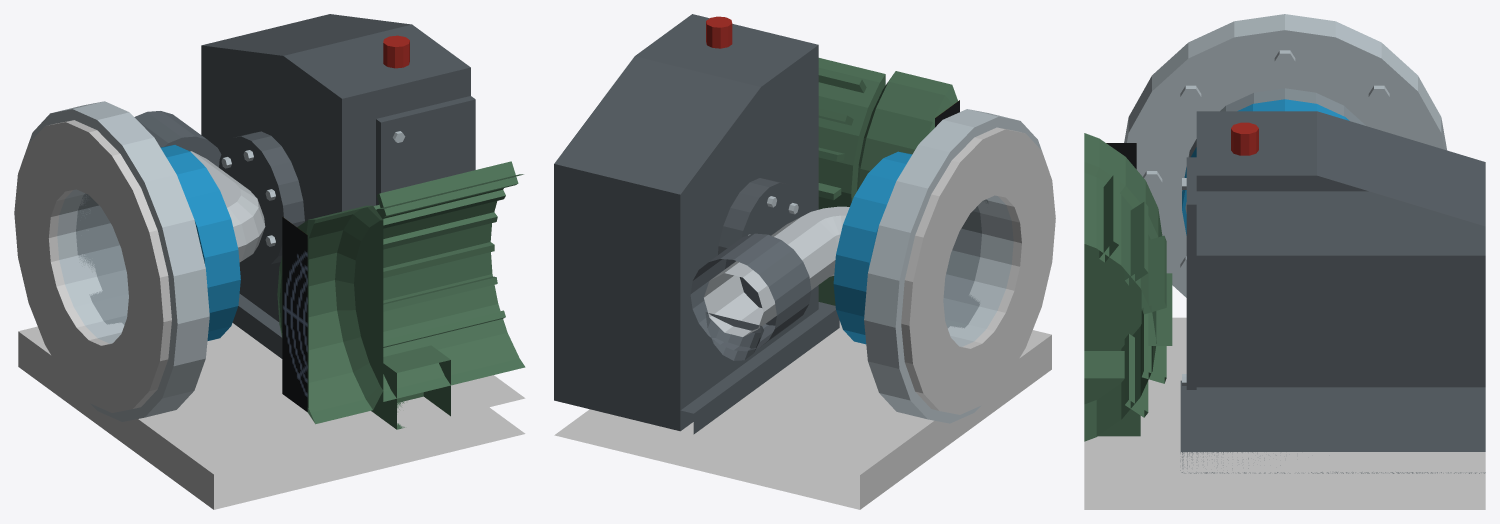
The model's file is cell_3.obj.
3 views of the same model, side by side, from view 1: azimuth 30°, elevation 25°; view 2: azimuth 150°, elevation 25°; view 3: azimuth 270°, elevation 25° (orthographic). The views are drawn at different scales.
Bounding box in the file's own units: 1 × 0.98 × 1.
